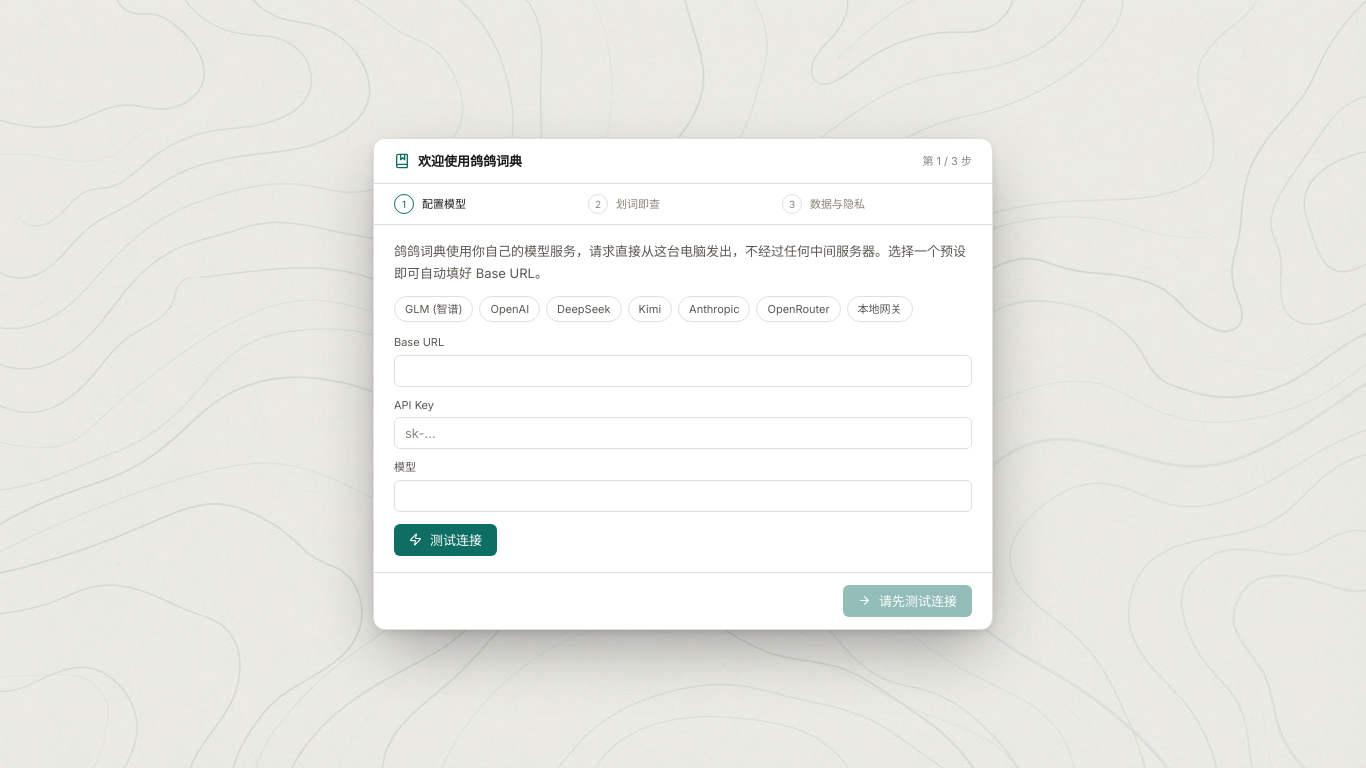
Test: onboarding connection test › reports the latency and model the backend measured and then lets the user continue
Expected: the button "请先测试连接" is disabled, [843,585,972,617]
Click the button "测试连接": [446, 540] box [394,524,497,556]
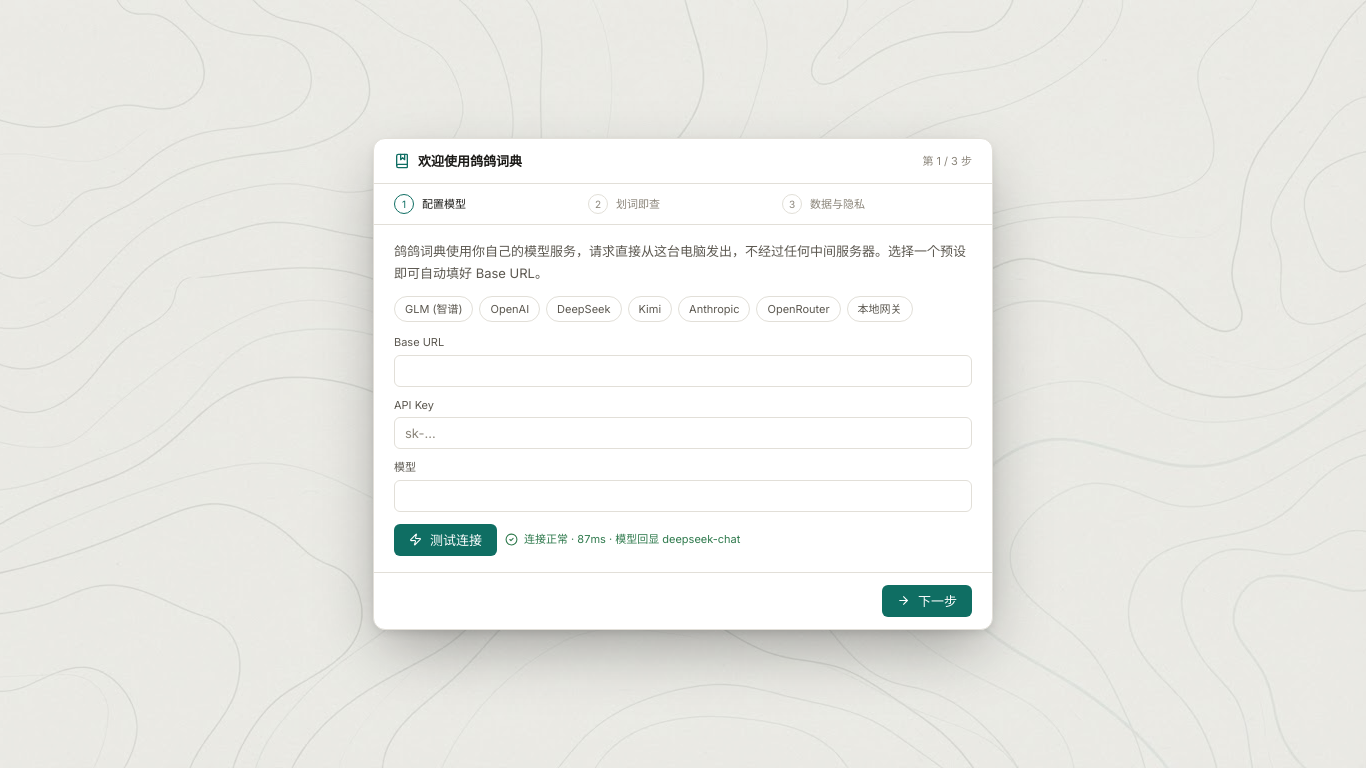
Expected: the text "连接正常 · 87ms · 模型回显 deepseek-chat" is shown, [505,531,740,548]
Expected: the button "下一步" is enabled, [882,585,972,617]
